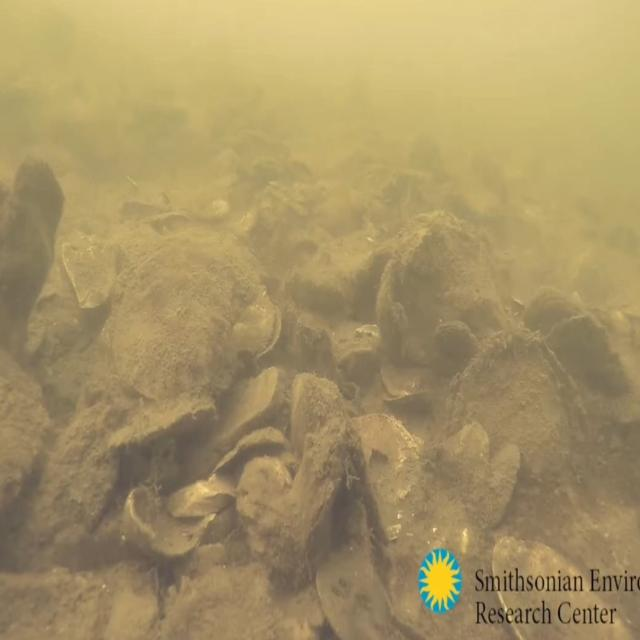Oyster-Closed: (111, 230, 282, 400), (442, 327, 590, 490), (292, 417, 348, 546), (433, 318, 478, 367)
Oyster-Indeterminate: (376, 210, 510, 376), (20, 407, 120, 575), (315, 499, 427, 640), (492, 533, 633, 640), (0, 153, 65, 369), (236, 457, 310, 594), (543, 313, 633, 395), (113, 392, 218, 444), (433, 420, 491, 512), (212, 364, 280, 439), (477, 442, 521, 528), (212, 426, 292, 472), (522, 283, 584, 341)
